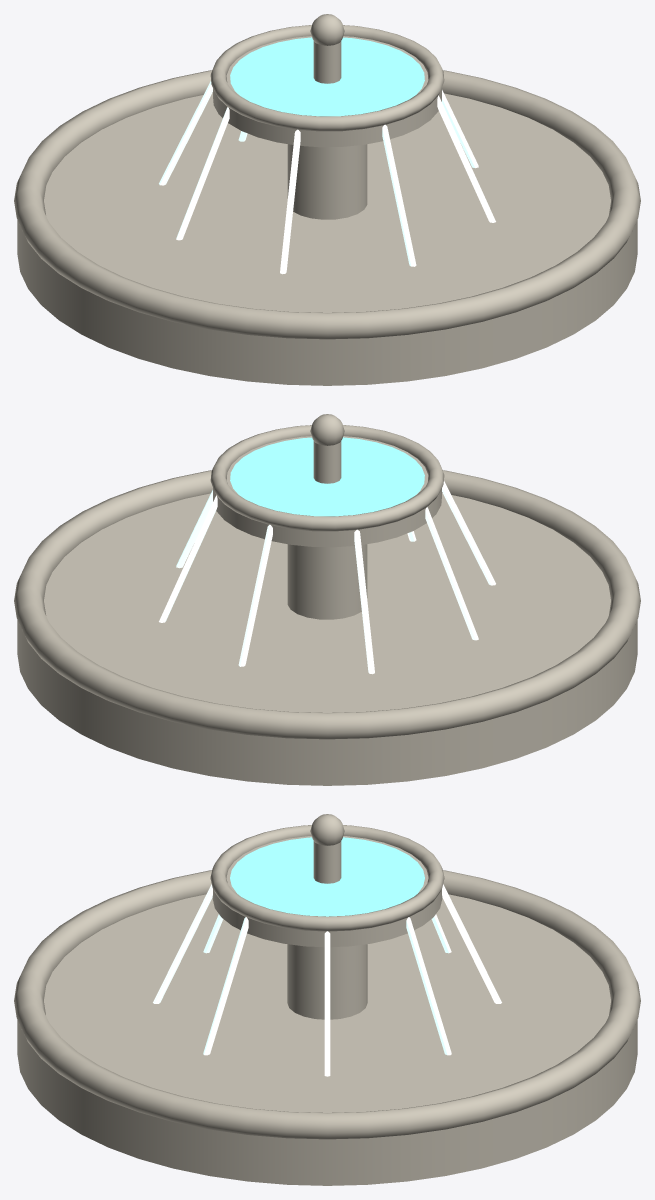
Rendered from fountain.glb.
3 views of the same model, one above another, from view 1: azimuth 30°, elevation 25°; view 2: azimuth 150°, elevation 25°; view 3: azimuth 270°, elevation 25° (orthographic).
Visible parts, largest first — view 1: part-fountain-stone, part-water-top, part-jet; view 2: part-fountain-stone, part-water-top, part-jet; view 3: part-fountain-stone, part-water-top, part-jet.
Boxes of the visible parts, x1,y1,x2,y2 form: part-fountain-stone: (14,14,640,385); part-water-top: (230,37,424,116); part-jet: (159,81,495,274); part-fountain-stone: (14,414,640,785); part-water-top: (230,437,424,516); part-jet: (159,481,495,674); part-fountain-stone: (14,814,640,1185); part-water-top: (230,837,424,916); part-jet: (153,884,501,1076).
Size of the model in its own units: 109 by 45.99 by 109.
